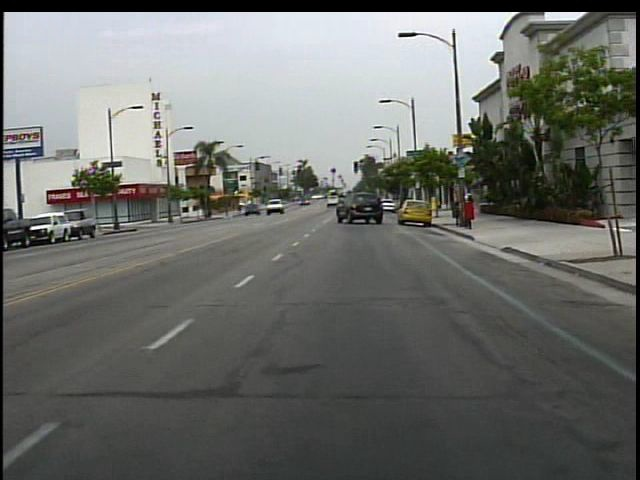person: (461, 186, 482, 220)
